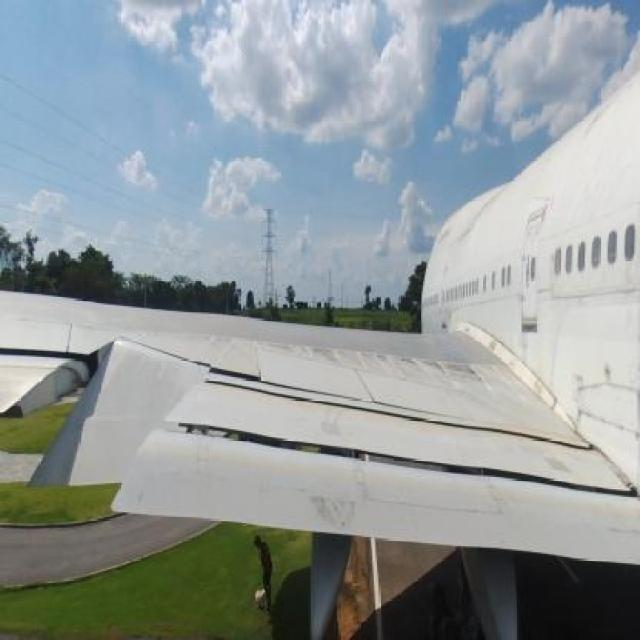Rust: (586, 110, 623, 139)
Scartch: (294, 477, 380, 535), (584, 404, 639, 448), (408, 359, 484, 387)
